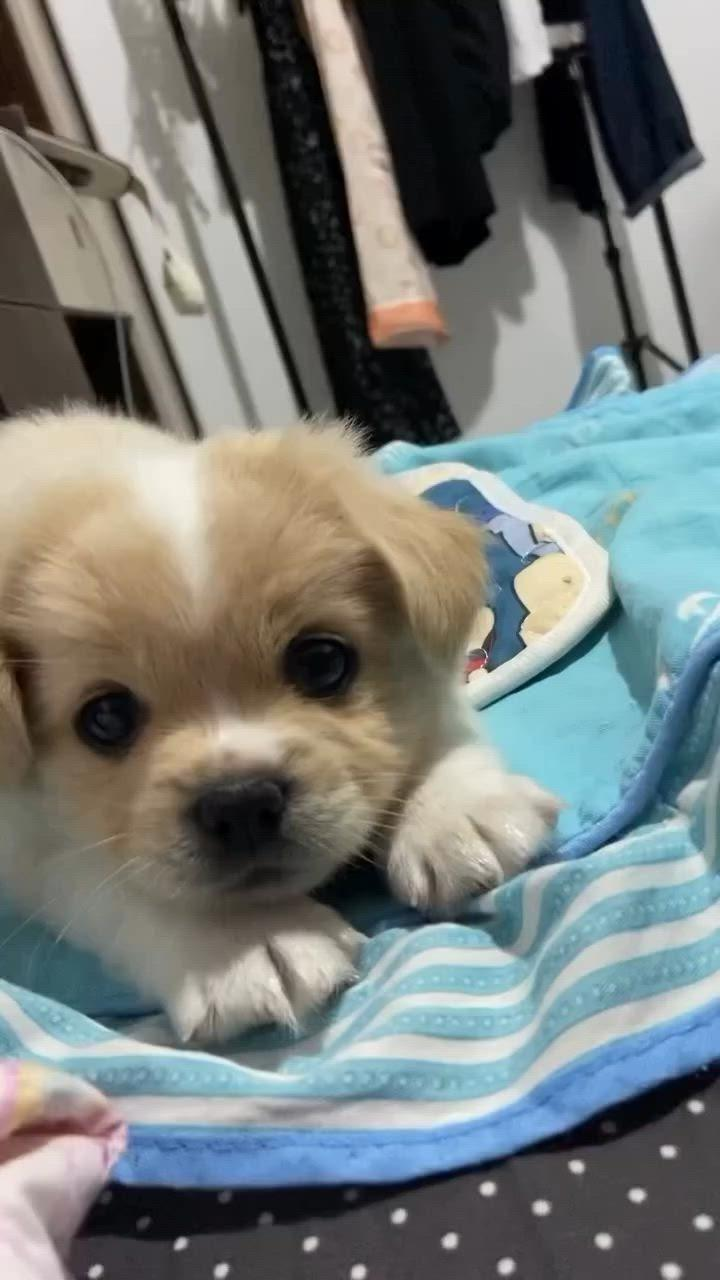puppy-dog: (0, 409, 561, 1043)
